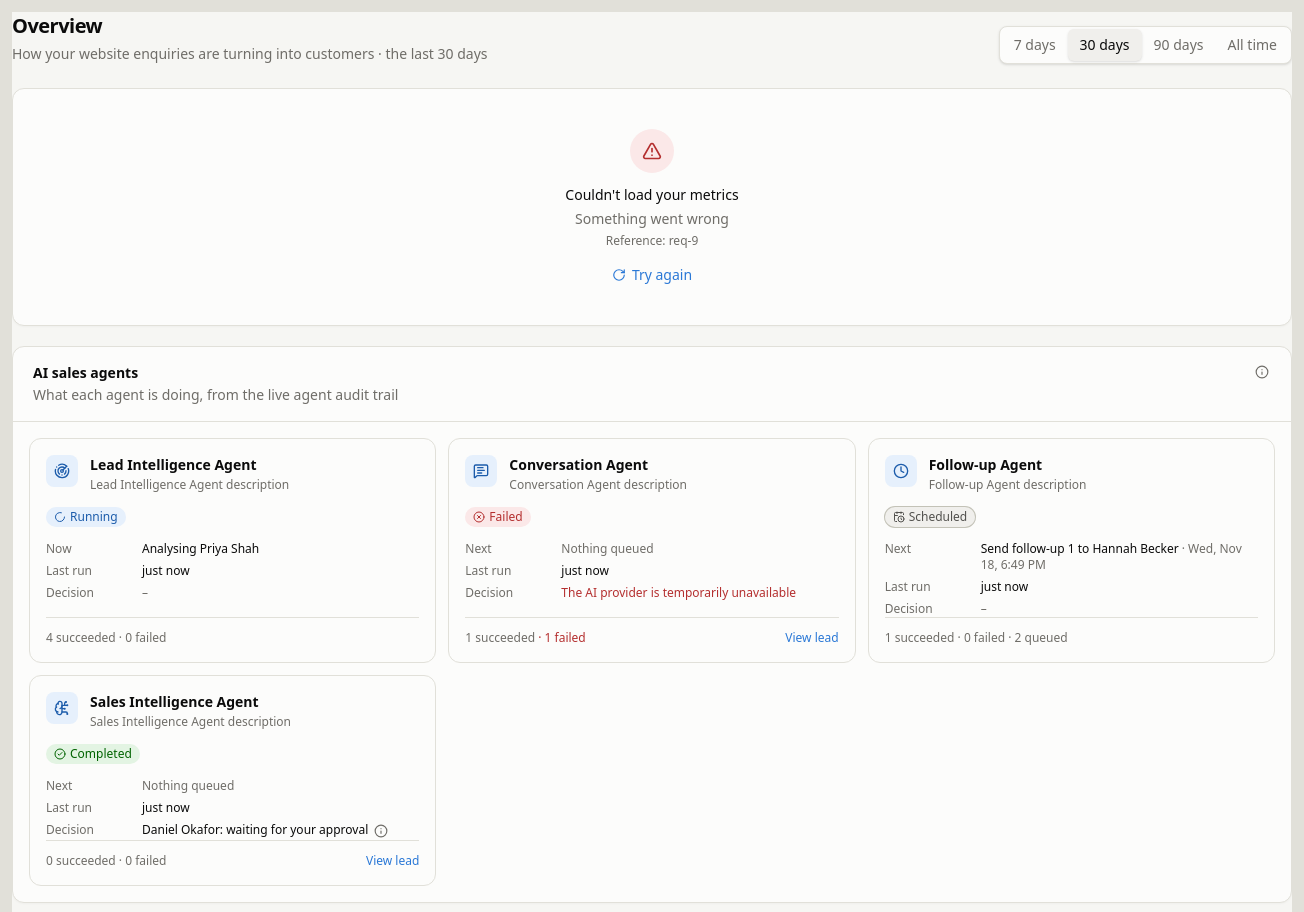
Scenario: Overview KPIs › shows an error state with retry
Expected: the text "Couldn't load your metrics" is shown, left=565, top=185, right=739, bottom=205
Expected: the text "Reference: req-9" is shown, left=606, top=233, right=698, bottom=249
Click the button "Try again". click: (652, 275)
box: left=612, top=265, right=692, bottom=285
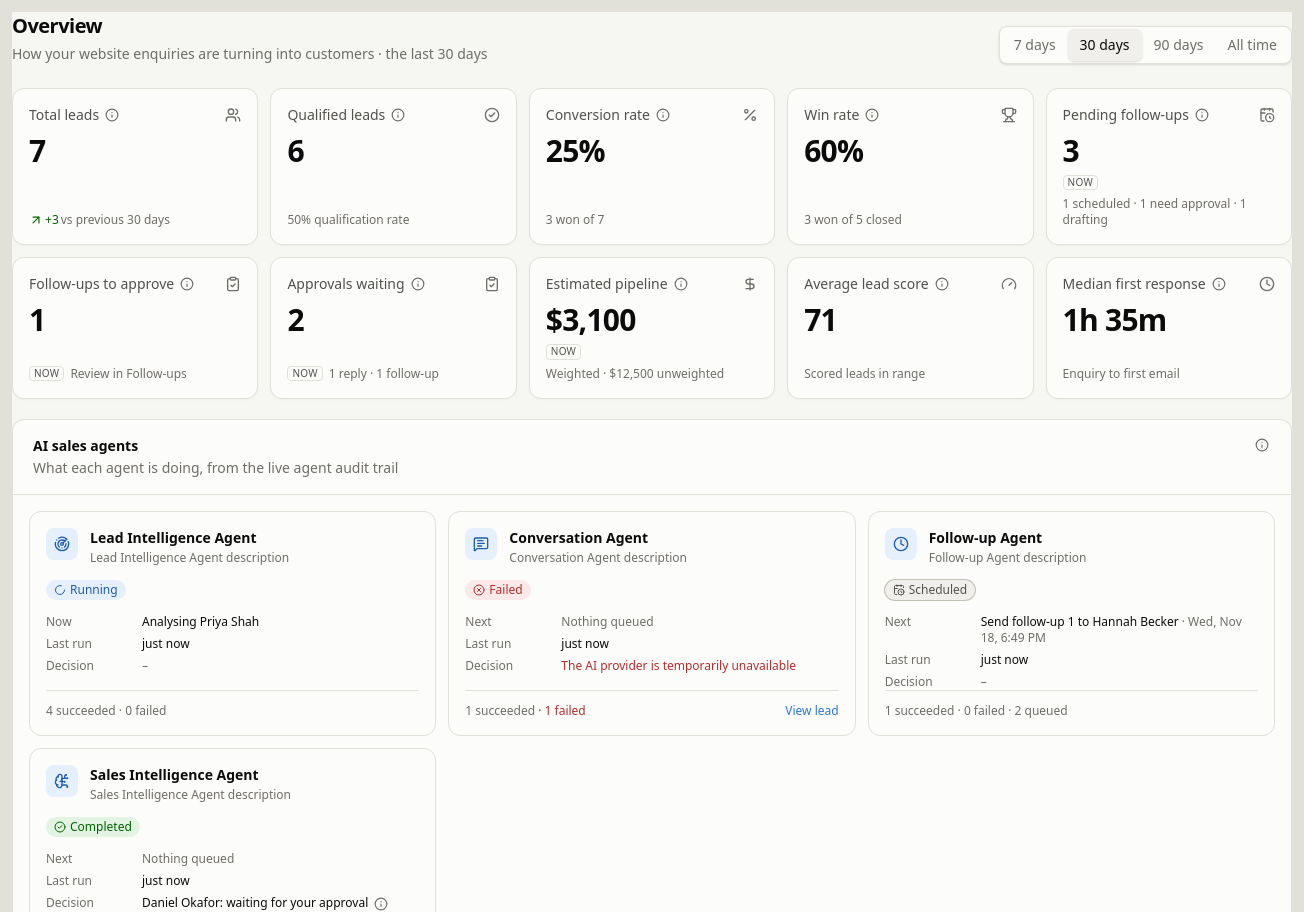
Result: the text "7" is shown at left=29, top=130, right=45, bottom=171
